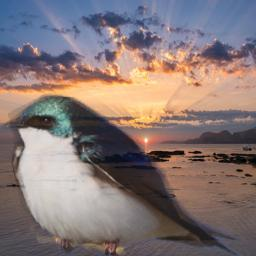Swallow: (2, 92, 242, 256)
